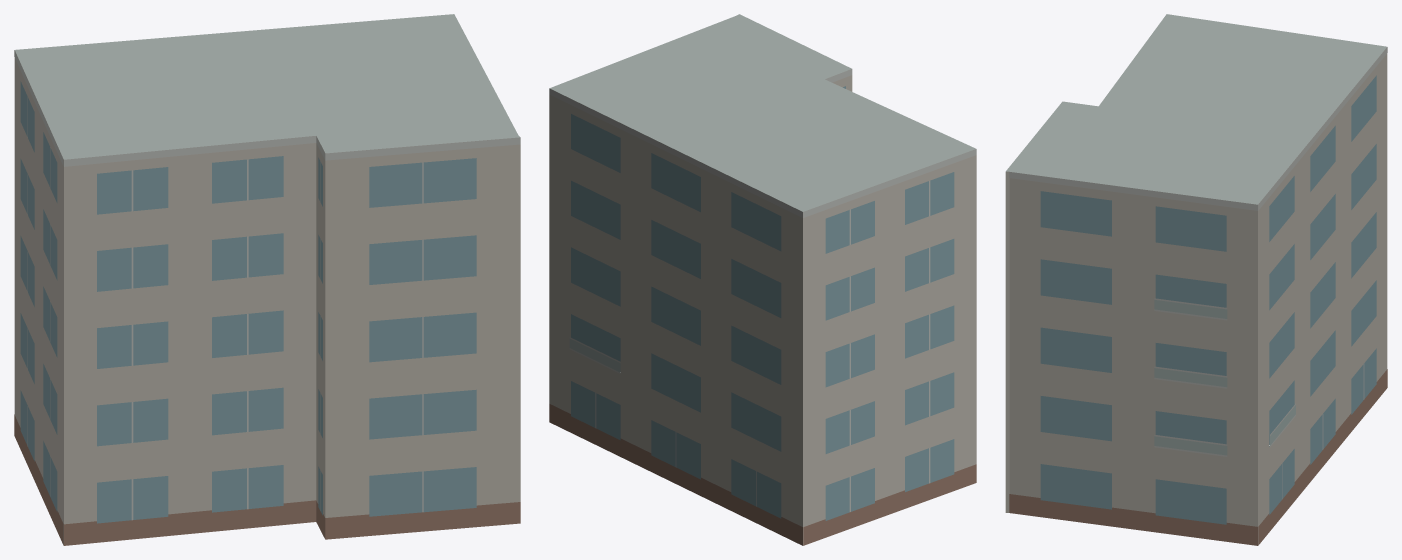
Rendered from survey-upis-32856962.glb.
The picture shows the model from 3 angles, left to right: view 1: azimuth 30°, elevation 25°; view 2: azimuth 150°, elevation 25°; view 3: azimuth 270°, elevation 25°; orthographic projection. The views are drawn at different scales.
Visible parts, largest first — view 1: survey-upis-32856962.tmp; view 2: survey-upis-32856962.tmp; view 3: survey-upis-32856962.tmp.
Part boxes in pixels (x1,y1,x2,y2): survey-upis-32856962.tmp: (14,14,520,545); survey-upis-32856962.tmp: (549,14,976,545); survey-upis-32856962.tmp: (1005,14,1387,545).
Bounding box in the file's own units: 15.83 × 13.2 × 13.4.
